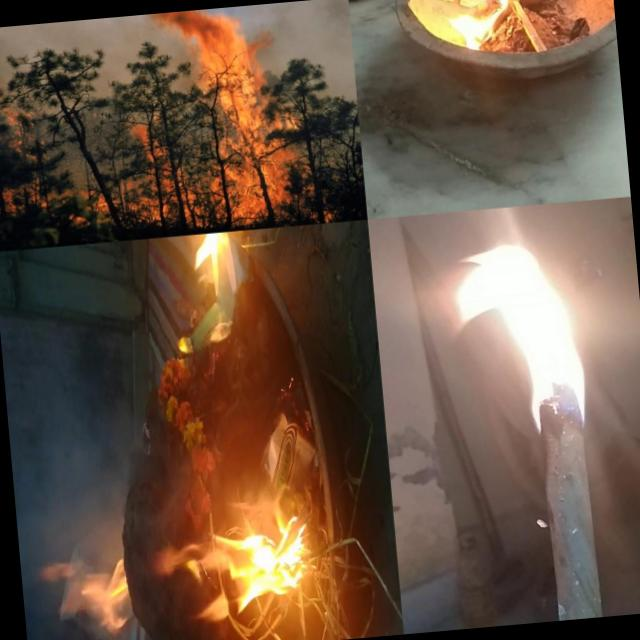fire: (441, 232, 613, 431), (31, 316, 87, 500), (214, 73, 282, 224), (428, 0, 568, 68), (152, 5, 255, 79), (99, 175, 228, 232), (49, 561, 109, 640), (129, 114, 163, 162)
smoke: (64, 273, 169, 640)
